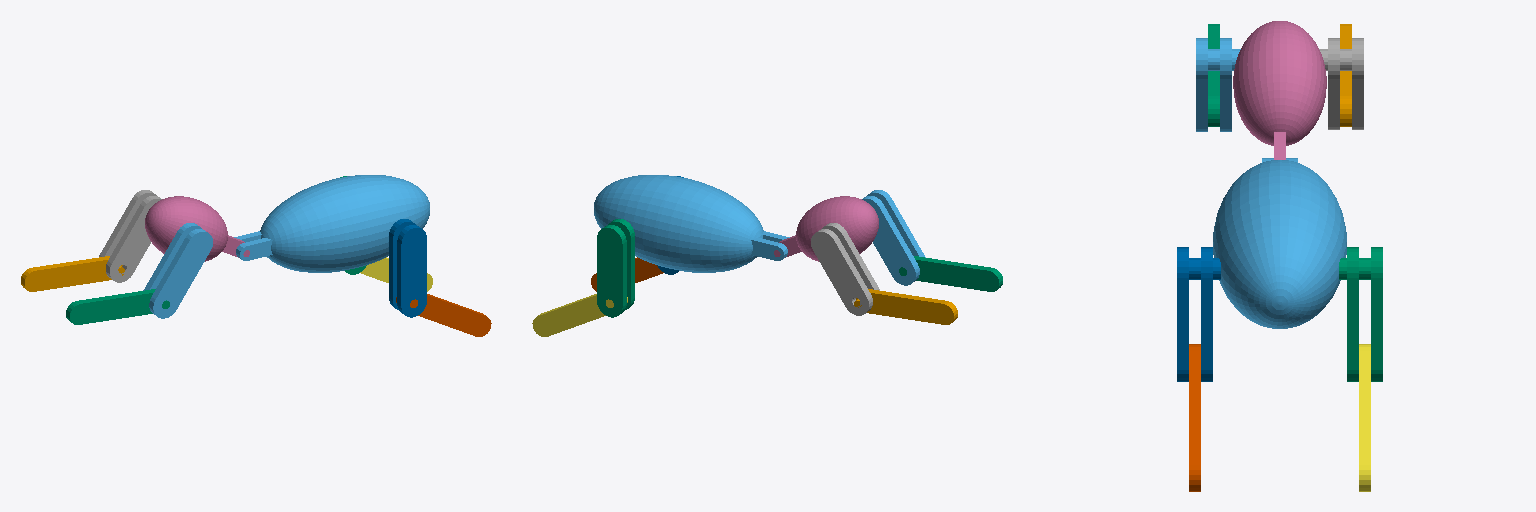
robot.urdf — cheetah:
<?xml version="1.0" encoding="utf-8"?>

<robot name="cheetah">
  <mujoco>
    <compiler discardvisual="false" meshdir="meshes"/>
  </mujoco>

  <link name="world"/>

  <joint name="floating_base_joint" type="floating">
    <origin xyz="0 0 0" rpy="0 0 0"/>
    <parent link="world"/>
    <child link="base"/>
    <axis xyz="0 0 0"/>
  </joint>

  <link name="base">
    <inertial>
      <origin xyz="0.36059 -3.5411E-08 2.6263E-08" rpy="0 0 0"/>
      <mass value="4"/>
      <inertia ixx="0.031067" ixy="7.2236E-07" ixz="-5.0739E-09" iyy="0.086585" iyz="6.4071E-10" izz="0.086267"/>
    </inertial>
    <visual>
      <origin xyz="0 0 0" rpy="0 0 0"/>
      <geometry>
        <mesh filename="package://cheetah/meshes/base.STL"/>
      </geometry>
    </visual>
  </link>

  <link name="fl_hip">
    <inertial>
      <origin xyz="-5.5511E-17 -0.0083713 -0.088755" rpy="0 0 0"/>
      <mass value="0.42319"/>
      <inertia ixx="0.0034493" ixy="-5.0483E-19" ixz="-4.1471E-18" iyy="0.0031537" iyz="0.00031443" izz="0.00078763"/>
    </inertial>
    <visual>
      <origin xyz="0 0 0" rpy="0 0 0"/>
      <geometry>
        <mesh filename="package://cheetah/meshes/fl_hip.STL"/>
      </geometry>
    </visual>
  </link>

  <joint name="fl_hip_joint" type="revolute">
    <origin xyz="0.485 0.1775 0" rpy="0 0 0"/>
    <parent link="base"/>
    <child link="fl_hip"/>
    <axis xyz="0 1 0"/>
    <limit lower="0" upper="0" effort="0" velocity="0"/>
  </joint>

  <link name="fl_knee">
    <inertial>
      <origin xyz="0.13698 2.7756E-17 5.2736E-16" rpy="0 0 0"/>
      <mass value="0.19172"/>
      <inertia ixx="8.8217E-05" ixy="-1.758E-20" ixz="-5.604E-18" iyy="0.0020898" iyz="-4.4981E-21" izz="0.0020349"/>
    </inertial>
    <visual>
      <origin xyz="0 0 0" rpy="0 0 0"/>
      <geometry>
        <mesh filename="package://cheetah/meshes/fl_knee.STL"/>
      </geometry>
    </visual>
  </link>

  <joint name="fl_knee_joint" type="revolute">
    <origin xyz="0 0 -0.21" rpy="0 0.5236 0"/>
    <parent link="fl_hip"/>
    <child link="fl_knee"/>
    <axis xyz="0 1 0"/>
    <limit lower="0" upper="0" effort="0" velocity="0"/>
  </joint>

  <link name="fr_hip">
    <inertial>
      <origin xyz="1.6653E-16 0.0083713 -0.088755" rpy="0 0 0"/>
      <mass value="0.42319"/>
      <inertia ixx="0.0034493" ixy="2.3572E-19" ixz="2.2904E-18" iyy="0.0031537" iyz="-0.00031443" izz="0.00078763"/>
    </inertial>
    <visual>
      <origin xyz="0 0 0" rpy="0 0 0"/>
      <geometry>
        <mesh filename="package://cheetah/meshes/fr_hip.STL"/>
      </geometry>
    </visual>
  </link>

  <joint name="fr_hip_joint" type="revolute">
    <origin xyz="0.485 -0.1775 0" rpy="0 0 0"/>
    <parent link="base"/>
    <child link="fr_hip"/>
    <axis xyz="0 1 0"/>
    <limit lower="0" upper="0" effort="0" velocity="0"/>
  </joint>

  <link name="fr_knee">
    <inertial>
      <origin xyz="0.13698 0 3.3307E-16" rpy="0 0 0"/>
      <mass value="0.19172"/>
      <inertia ixx="8.8217E-05" ixy="1.5207E-19" ixz="-6.3324E-18" iyy="0.0020898" iyz="1.8285E-21" izz="0.0020349"/>
    </inertial>
    <visual>
      <origin xyz="0 0 0" rpy="0 0 0"/>
      <geometry>
        <mesh filename="package://cheetah/meshes/fr_knee.STL"/>
      </geometry>
    </visual>
  </link>

  <joint name="fr_knee_joint" type="revolute">
    <origin xyz="0 0 -0.21" rpy="0 0.5236 0"/>
    <parent link="fr_hip"/>
    <child link="fr_knee"/>
    <axis xyz="0 1 0"/>
    <limit lower="0" upper="0" effort="0" velocity="0"/>
  </joint>

  <link name="spine">
    <inertial>
      <origin xyz="-0.21386 2.4147E-07 -3.6136E-08" rpy="0 0 0"/>
      <mass value="2.818"/>
      <inertia ixx="0.0104" ixy="1.0013E-07" ixz="-3.0062E-08" iyy="0.019596" iyz="-4.2309E-09" izz="0.019319"/>
    </inertial>
    <visual>
      <origin xyz="0 0 0" rpy="0 0 0"/>
      <geometry>
        <mesh filename="package://cheetah/meshes/spine.STL"/>
      </geometry>
    </visual>
  </link>

  <joint name="spine_joint" type="revolute">
    <origin xyz="0 0 0" rpy="0 0.5236 0"/>
    <parent link="base"/>
    <child link="spine"/>
    <axis xyz="0 1 0"/>
    <limit lower="0" upper="0" effort="0" velocity="0"/>
  </joint>

  <link name="bl_hip">
    <inertial>
      <origin xyz="-1.5467E-06 -0.0036898 -0.092943" rpy="0 0 0"/>
      <mass value="0.40409"/>
      <inertia ixx="0.0030903" ixy="2.3061E-09" ixz="-7.0036E-08" iyy="0.0029912" iyz="0.00013858" izz="0.00058623"/>
    </inertial>
    <visual>
      <origin xyz="0 0 0" rpy="0 0 0"/>
      <geometry>
        <mesh filename="package://cheetah/meshes/bl_hip.STL"/>
      </geometry>
    </visual>
  </link>

  <joint name="bl_hip_joint" type="revolute">
    <origin xyz="-0.28023 0.1375 0" rpy="0 0.087266 0"/>
    <parent link="spine"/>
    <child link="bl_hip"/>
    <axis xyz="0 1 0"/>
    <limit lower="0" upper="0" effort="0" velocity="0"/>
  </joint>

  <link name="bl_knee">
    <inertial>
      <origin xyz="-0.136980769272211 -2.77555756156289E-17 8.32667268468867E-17" rpy="0 0 0"/>
      <mass value="0.191716257710722"/>
      <inertia ixx="8.82165913818756E-05" ixy="-4.88757953757885E-21" ixz="3.94002493270762E-20" iyy="0.00208984581272801" iyz="1.24931350542949E-22" izz="0.002034853258865"/>
    </inertial>
    <visual>
      <origin xyz="0 0 0" rpy="0 0 0"/>
      <geometry>
        <mesh filename="package://cheetah/meshes/bl_knee.STL"/>
      </geometry>
    </visual>
  </link>

  <joint name="bl_knee_joint" type="revolute">
    <origin xyz="0 0 -0.21" rpy="0 -0.5236 0"/>
    <parent link="bl_hip"/>
    <child link="bl_knee"/>
    <axis xyz="0 1 0"/>
    <limit lower="0" upper="0" effort="0" velocity="0"/>
  </joint>

  <link name="br_hip">
    <inertial>
      <origin xyz="5.38458166943201E-15 0.00368968298712646 -0.0929470355754689" rpy="0 0 0"/>
      <mass value="0.404107705466589"/>
      <inertia ixx="0.00309048770259786" ixy="-1.51985593097323E-18" ixz="-1.34115808736457E-16" iyy="0.00299142750960401" iyz="-0.000138586755791371" izz="0.000586269073000988"/>  
    </inertial>
    <visual>
      <origin xyz="0 0 0" rpy="0 0 0"/>
      <geometry>
        <mesh filename="package://cheetah/meshes/br_hip.STL"/>
      </geometry>
    </visual>
  </link>

  <joint name="br_hip_joint" type="revolute">
    <origin xyz="-0.28023 -0.1375 0" rpy="0 0.087266 0"/>
    <parent link="spine"/>
    <child link="br_hip"/>
    <axis xyz="0 1 0"/>
    <limit lower="0" upper="0" effort="0" velocity="0"/>
  </joint>

  <link name="br_knee">
    <inertial>
      <origin xyz="-0.136980769272211 -2.77555756156289E-17 -1.11022302462516E-16" rpy="0 0 0"/>
      <mass value="0.191716257710722"/>
      <inertia ixx="8.82165913818758E-05" ixy="2.59851801796847E-21" ixz="-8.27162263648405E-20" iyy="0.00208984581272802" iyz="-2.06548670310087E-21" izz="0.00203485325886501"/>
      </inertial>
    <visual>
      <origin xyz="0 0 0" rpy="0 0 0"/>
      <geometry>
        <mesh filename="package://cheetah/meshes/br_knee.STL"/>
      </geometry>
    </visual>
  </link>

  <joint name="br_knee_joint" type="revolute">
    <origin xyz="0 0 -0.21" rpy="0 -0.5236 0"/>
    <parent link="br_hip"/>
    <child link="br_knee"/>
    <axis xyz="0 1 0"/>
    <limit lower="0" upper="0" effort="0" velocity="0"/>
  </joint>

</robot>

--- What the picture shows (computed from the rendered views, not written in the file) ---
Views: 3 orthographic renders of the robot side by side, from view 1: azimuth 30°, elevation 25°; view 2: azimuth 150°, elevation 25°; view 3: azimuth 270°, elevation 25°.
Model cheetah with 11 links and 10 joints (9 revolute, 1 floating), rooted at world, posed every joint at zero.
Visible links, largest first — view 1: base, br_hip, fr_hip, spine, bl_hip, bl_knee, br_knee, fr_knee, fl_knee; view 2: base, bl_hip, fl_hip, spine, br_hip, bl_knee, br_knee, fl_knee, fr_knee; view 3: base, spine, fl_hip, fr_hip, br_hip, bl_hip, fl_knee, fr_knee, bl_knee, br_knee.
Link boxes in pixels (box(x1,y1,x2,y2)): base: box(234, 175, 429, 272); br_hip: box(143, 223, 212, 318); fr_hip: box(389, 219, 426, 317); spine: box(145, 196, 249, 261); bl_hip: box(99, 190, 161, 282); bl_knee: box(21, 256, 124, 291); br_knee: box(66, 289, 169, 324); fr_knee: box(396, 294, 491, 336); fl_knee: box(360, 257, 432, 291); base: box(594, 175, 789, 272); bl_hip: box(811, 223, 879, 315); fl_hip: box(597, 219, 634, 317); spine: box(774, 196, 878, 261); br_hip: box(862, 190, 925, 285); bl_knee: box(854, 289, 957, 324); br_knee: box(899, 256, 1002, 291); fl_knee: box(532, 294, 627, 336); fr_knee: box(591, 257, 663, 291); base: box(1213, 158, 1346, 328); spine: box(1233, 21, 1326, 159); fl_hip: box(1339, 247, 1382, 381); fr_hip: box(1177, 247, 1220, 381); br_hip: box(1196, 38, 1240, 131); bl_hip: box(1319, 38, 1363, 129); fl_knee: box(1359, 344, 1370, 491); fr_knee: box(1189, 344, 1200, 491); bl_knee: box(1340, 24, 1351, 126); br_knee: box(1208, 24, 1219, 126).
Bounding box of the posed robot: 1.46 × 0.43 × 0.6111 m (x, y, z).
10 mesh visuals loaded from 10 distinct referenced files (10 binary STL).